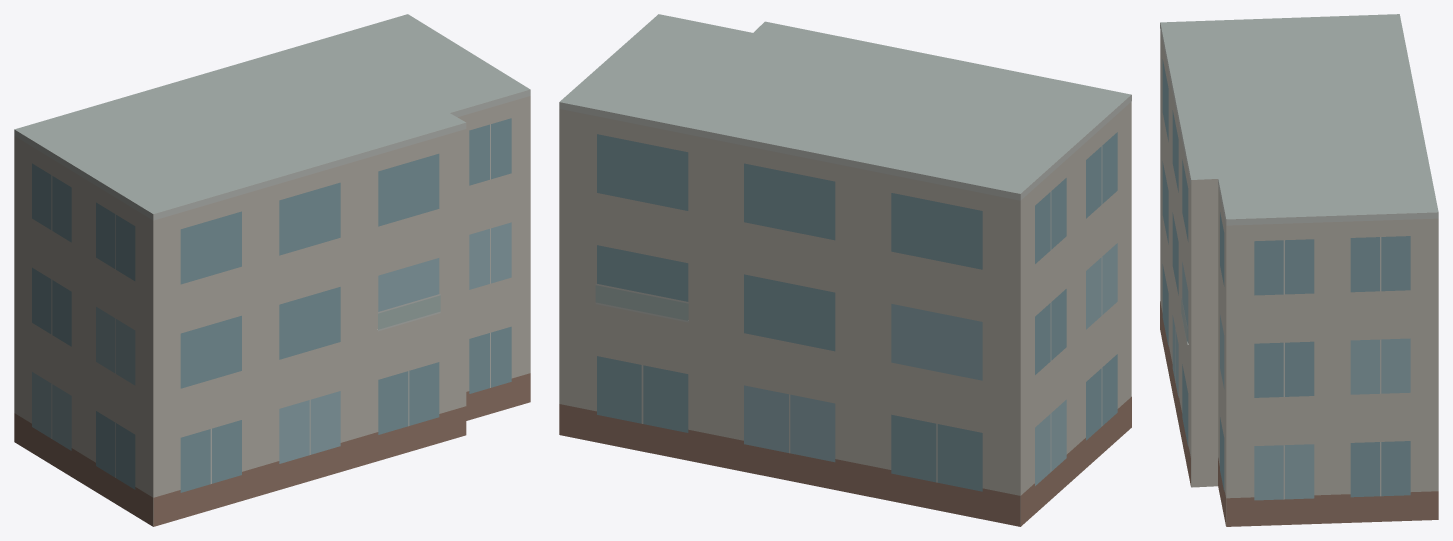
Rendered from survey-upis-32716266.glb.
3 views of the same model, side by side, from view 1: azimuth 30°, elevation 25°; view 2: azimuth 150°, elevation 25°; view 3: azimuth 270°, elevation 25° (orthographic). The views are drawn at different scales.
Parts seen in each view (by area): view 1: survey-upis-32716266.tmp; view 2: survey-upis-32716266.tmp; view 3: survey-upis-32716266.tmp.
Part boxes in pixels (bbox=[...]): survey-upis-32716266.tmp: bbox=[14, 14, 530, 526]; survey-upis-32716266.tmp: bbox=[559, 14, 1131, 526]; survey-upis-32716266.tmp: bbox=[1160, 14, 1438, 526].
Bounding box in the file's own units: 17.21 × 12 × 9.86.
